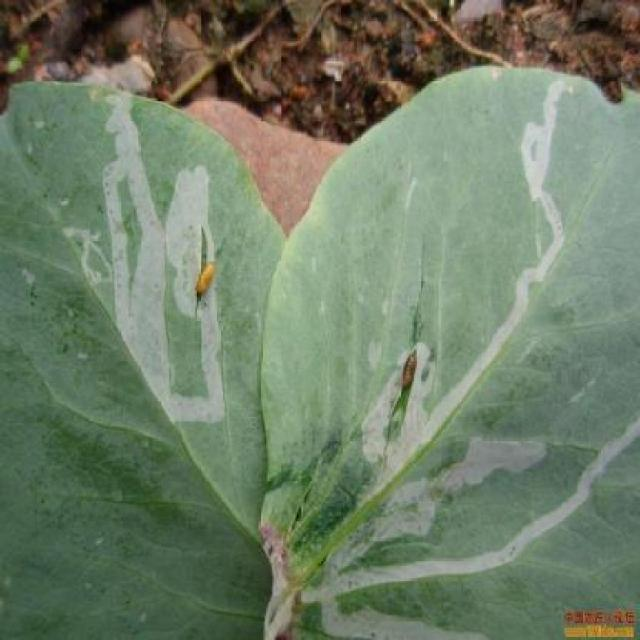whorl-maggot: (188, 252, 218, 308), (399, 338, 423, 391)
